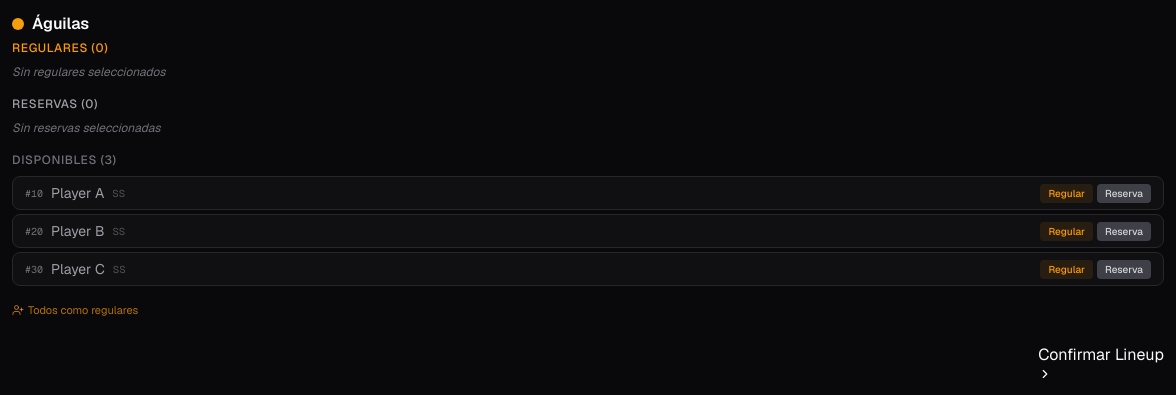
it: LineupSelector › assigns a player as reserva when clicking Reserva button
The width and height of the screenshot is (1176, 395).
Click second player's Reserva button
Click the button "Reserva" in the row of "Player B" at (1124, 231), box x1=1097 y1=222 x2=1151 y2=240
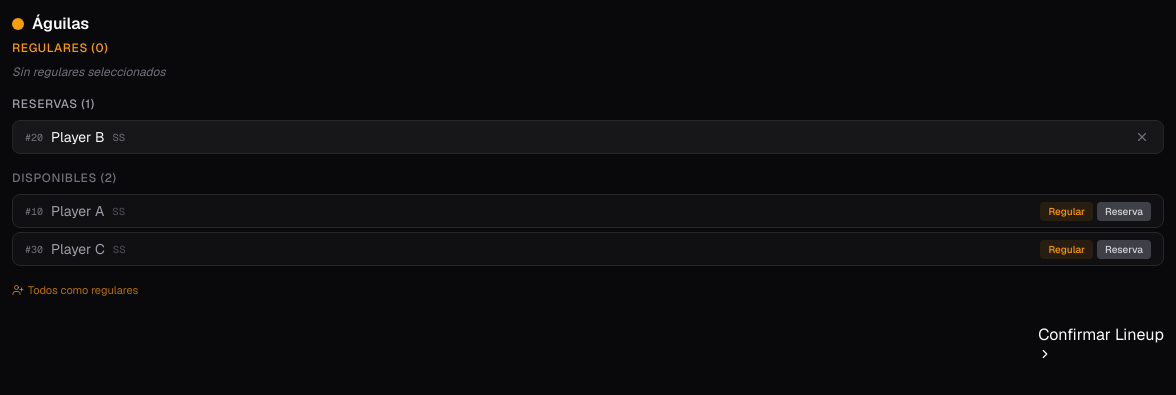
Expected: the heading "Reservas (1)" is shown, x1=12 y1=96 x2=95 y2=112
Expected: the heading "Disponibles (2)" is shown, x1=12 y1=170 x2=117 y2=186
